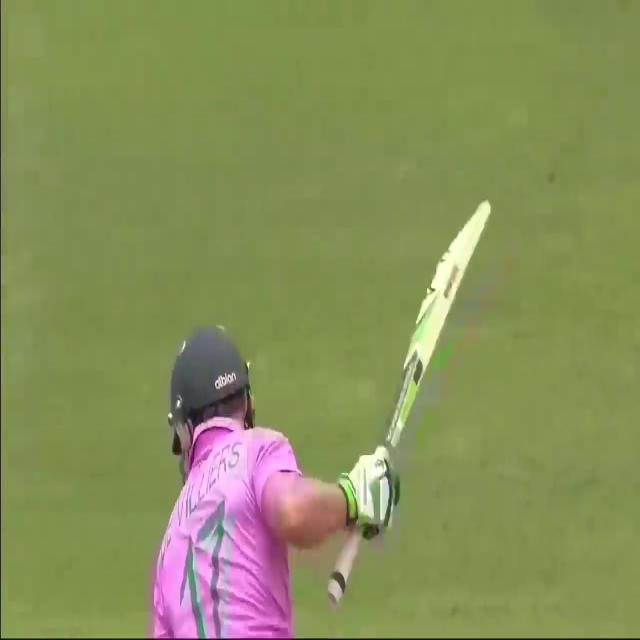Ball: (145, 332, 397, 637)
